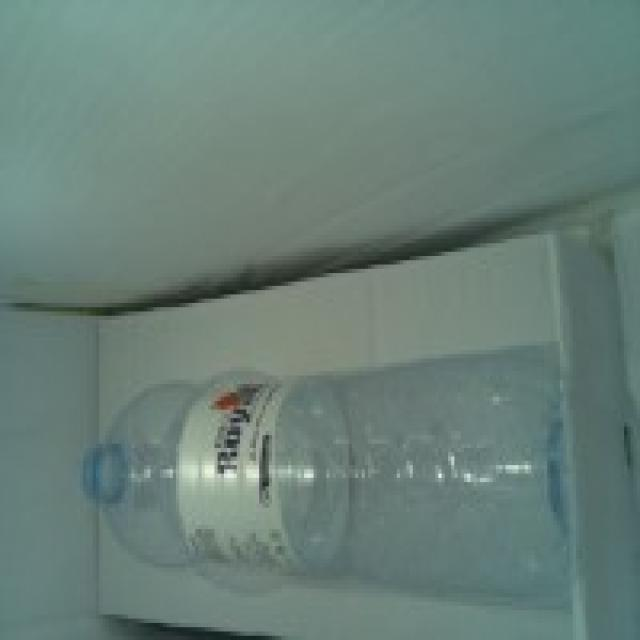Anorganik: (77, 354, 573, 619)
